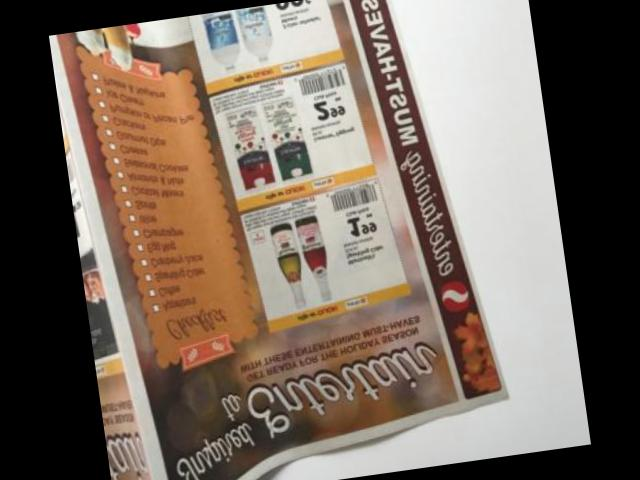cardboard paper: (49, 0, 503, 480)
